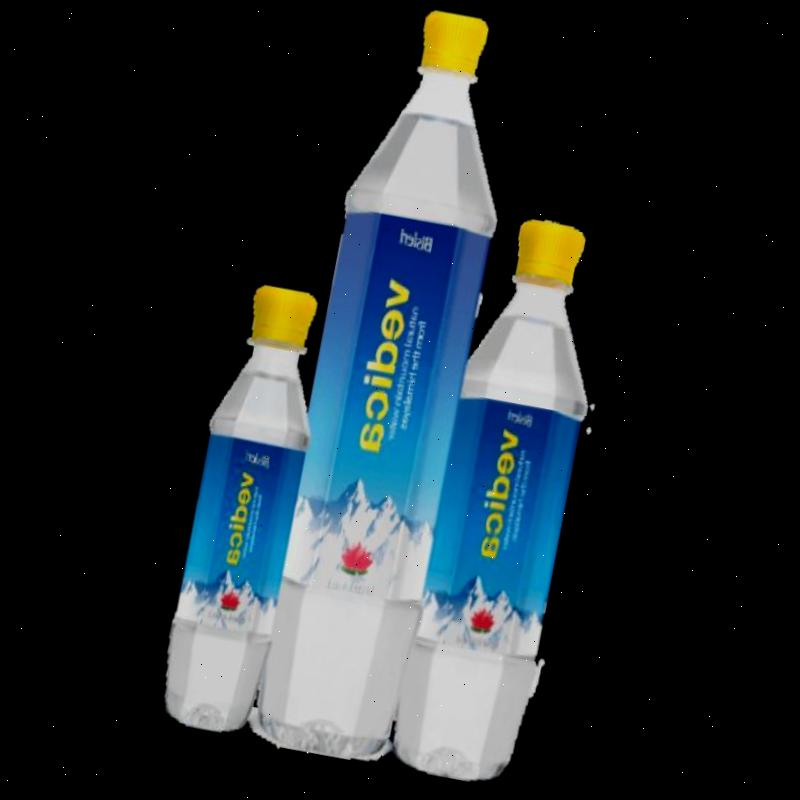botella: (228, 0, 542, 770), (372, 212, 626, 791), (141, 275, 344, 742)
